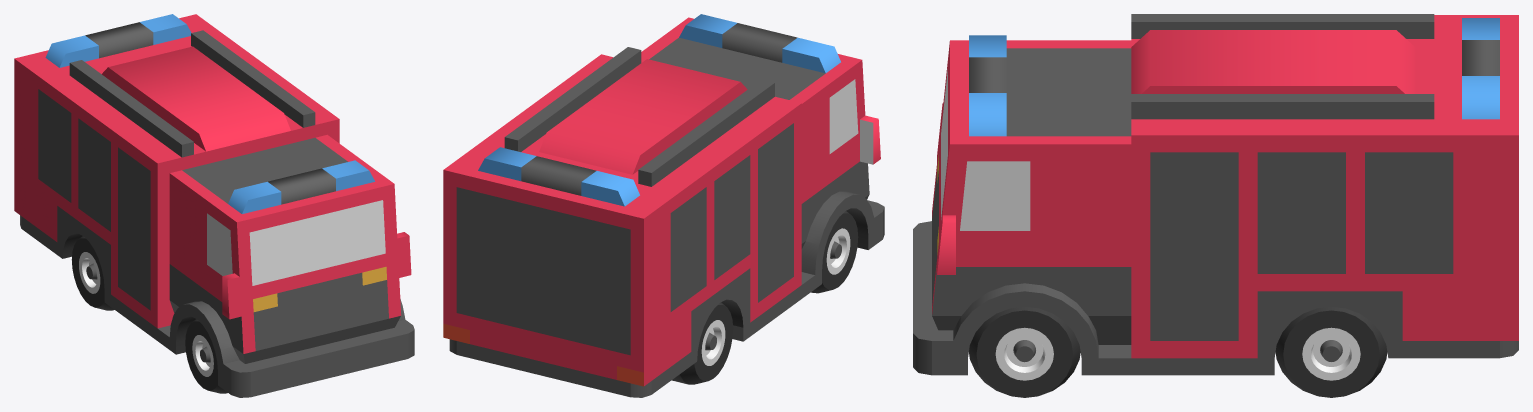
The model's file is firetruck.obj.
3 renders of one model, left to right at view 1: azimuth 30°, elevation 25°; view 2: azimuth 150°, elevation 25°; view 3: azimuth 270°, elevation 25°, orthographic. The views are drawn at different scales.
Parts seen in each view (by area): view 1: body, wheel_frontRight, wheel_backRight; view 2: body, wheel_backRight, wheel_frontRight; view 3: body, wheel_frontLeft, wheel_backLeft.
Boxes of the visible parts, <box> form: body: <box>14,14,414,397</box>; wheel_frontRight: <box>185,319,227,393</box>; wheel_backRight: <box>71,236,114,310</box>; body: <box>443,14,884,397</box>; wheel_backRight: <box>671,302,733,384</box>; wheel_frontRight: <box>811,211,858,293</box>; body: <box>913,14,1518,375</box>; wheel_frontLeft: <box>969,306,1080,397</box>; wheel_backLeft: <box>1275,306,1387,397</box>.
Bounding box in the file's own units: 1.5 × 1.7 × 3.2.
